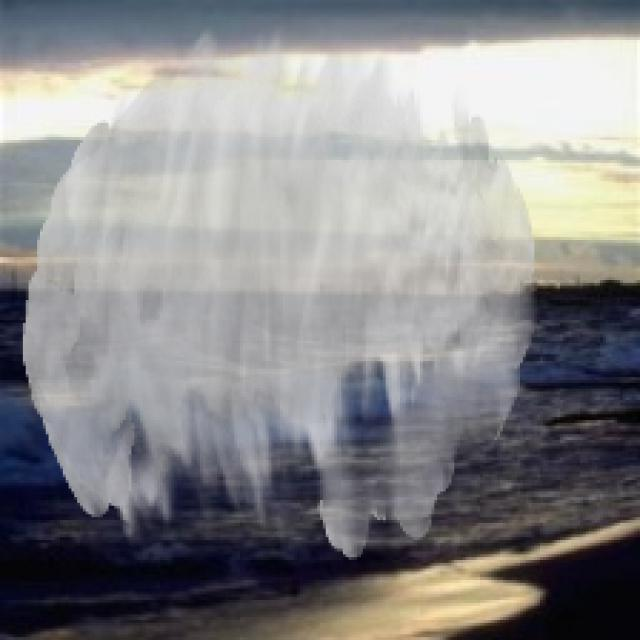Smoke: (22, 23, 538, 560)
